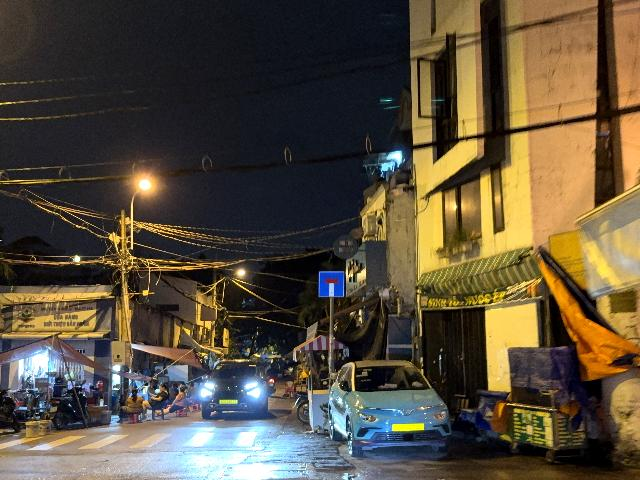duong-cut: (319, 271, 344, 297)
